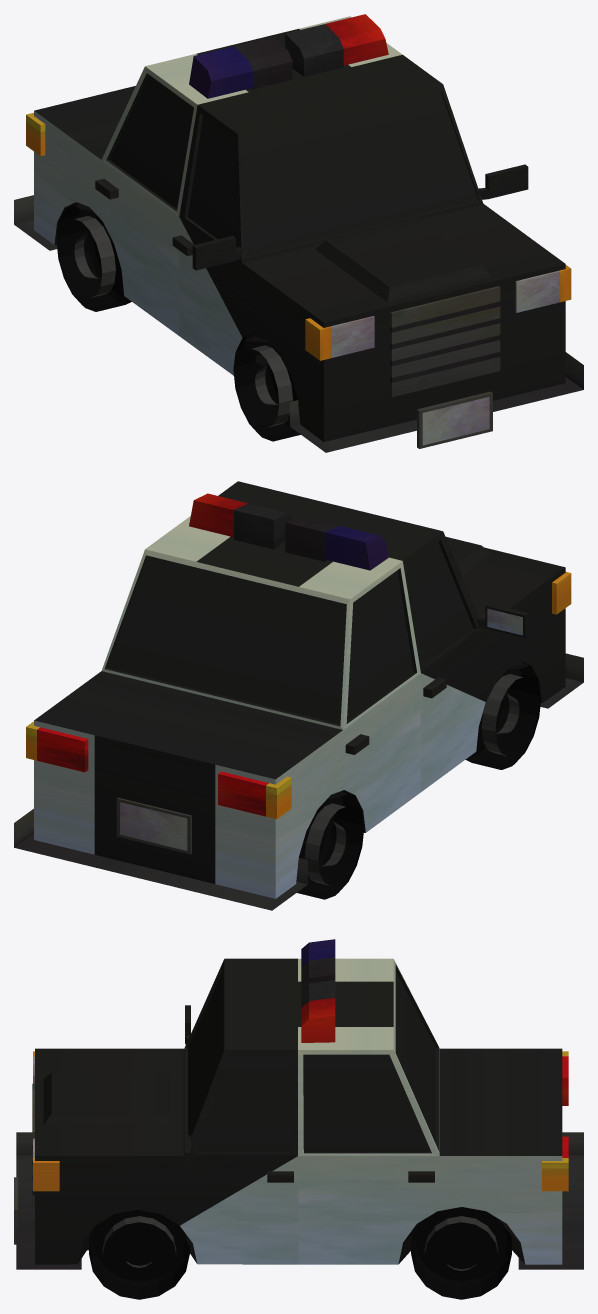
Rendered from vehicle004.glb.
The picture shows the model from 3 angles, top to bottom: view 1: azimuth 30°, elevation 25°; view 2: azimuth 150°, elevation 25°; view 3: azimuth 270°, elevation 25°; orthographic projection. The views are drawn at different scales.
Parts seen in each view (by area): view 1: vehicle022; view 2: vehicle022; view 3: vehicle022.
Part boxes in pixels (x1,y1,x2,y2): vehicle022: (14, 14, 583, 452); vehicle022: (14, 481, 583, 910); vehicle022: (14, 939, 583, 1299).
Size of the model in its own units: 3.24 by 2.73 by 5.29.
Materials: 1 (1 with a texture image).
